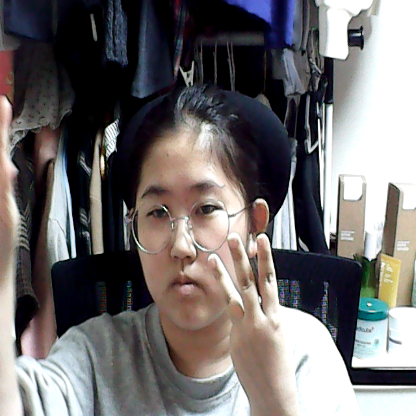Finger_3: (200, 231, 302, 406)
